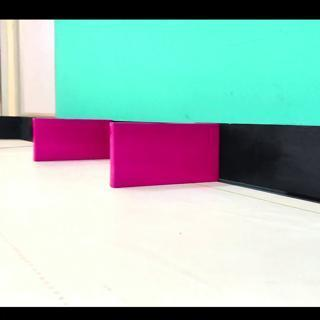xparking: (112, 123, 218, 182), (34, 119, 109, 160)
